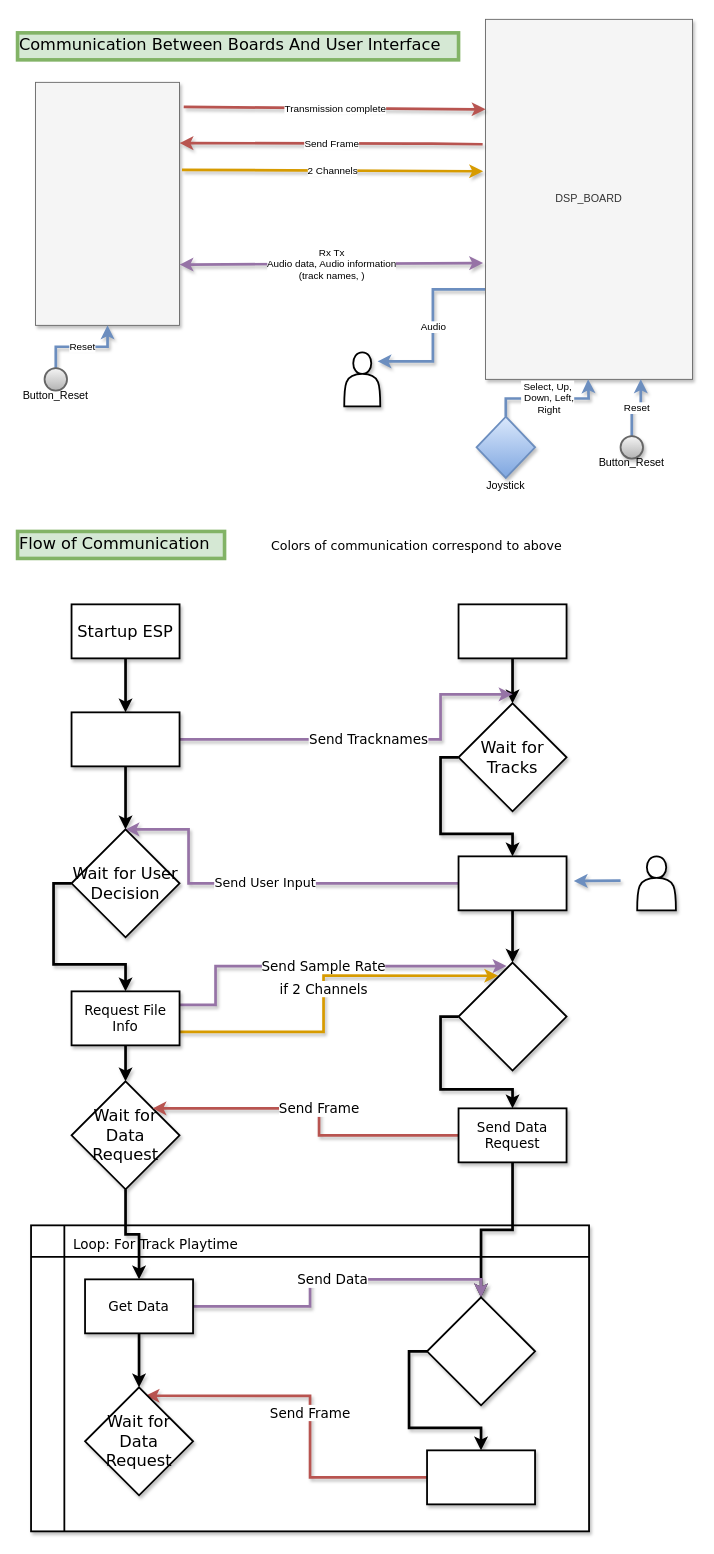
Some shapes in this 714 by 1554 pixel diagram are drawn without their labels. Each missing label, with the centre of its shape:
"ESP8266" goes at point (108, 205).
"Get Tracks" goes at point (126, 740).
"Get User Input" goes at point (513, 884).
"Play data" goes at point (481, 1478).
"Startup DSP" goes at point (513, 632).
"Wait for Data" goes at point (481, 1352).
"Wait for File Info" goes at point (513, 1017).
